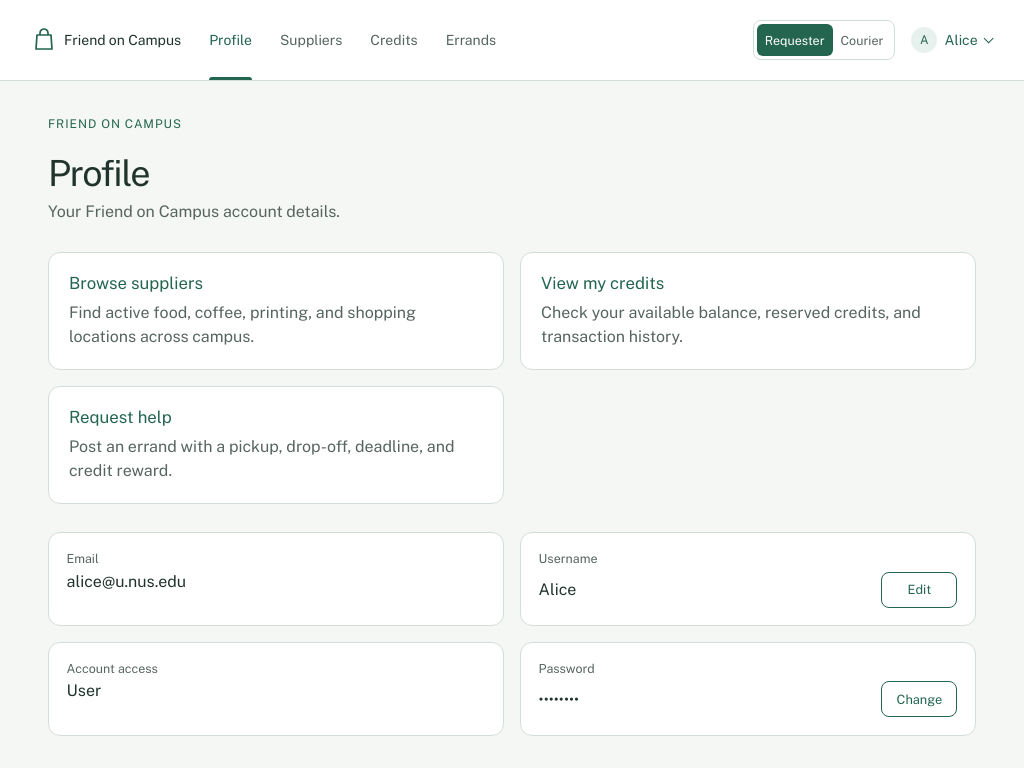
signs out with only the profile email retained and focuses the empty password field
The image size is (1024, 768).
Click the heading named "Open account menu for Alice".
click(952, 40)  # box left=911, top=27, right=994, bottom=53
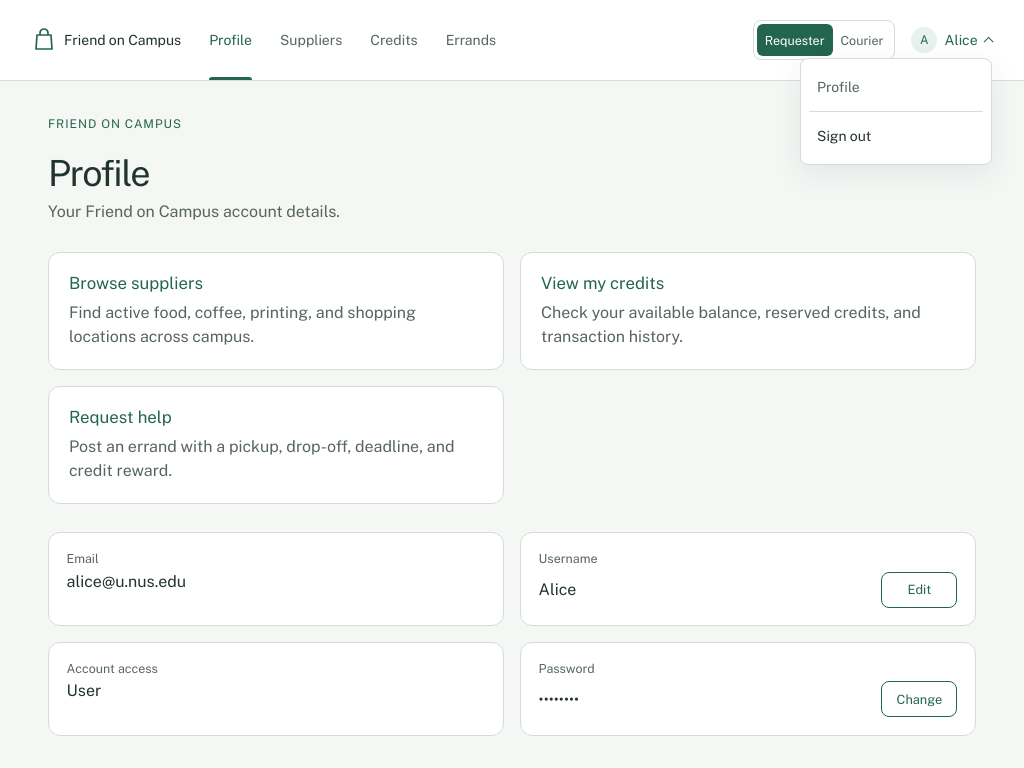
Click the button "Sign out".
click(896, 136)  # box left=809, top=116, right=983, bottom=156
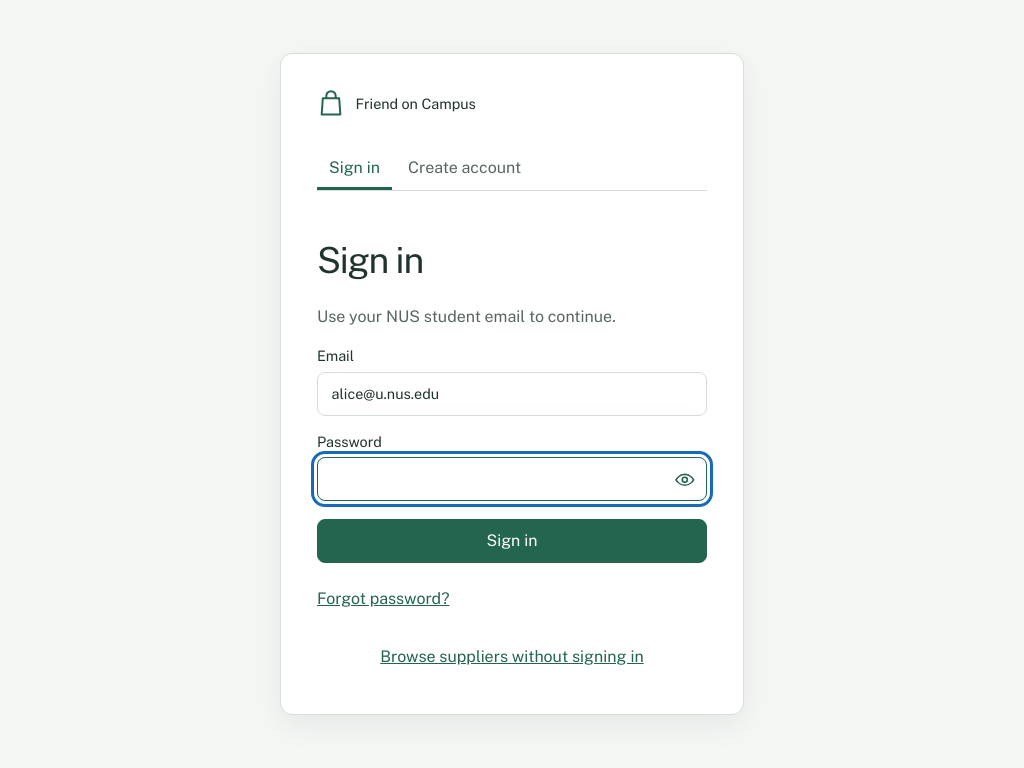
Result: the field labelled "Email" holds "alice@u.nus.edu" at left=317, top=372, right=707, bottom=416
Result: the password field labelled "Password" is empty at left=317, top=457, right=707, bottom=501
